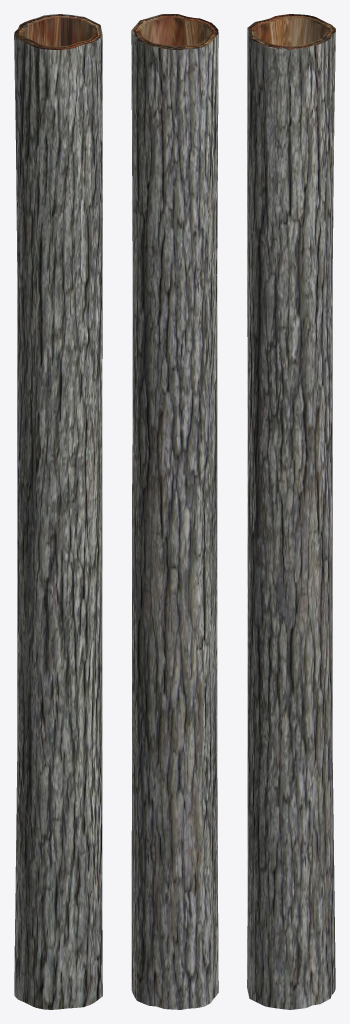
File: fluchtlevel.fbx
3 renders of one model, left to right at view 1: azimuth 90°, elevation 25°; view 2: azimuth 210°, elevation 25°; view 3: azimuth 270°, elevation 25°, orthographic.
Visible parts, largest first — view 1: Baumstamm; view 2: Baumstamm; view 3: Baumstamm.
Boxes of the visible parts, x1,y1,x2,y2 form: Baumstamm: [14, 14, 102, 1009]; Baumstamm: [131, 14, 218, 1009]; Baumstamm: [247, 14, 335, 1009].
Size of the model in its own units: 204 by 2496 by 209.
Materials: 3 (2 with a texture image).
